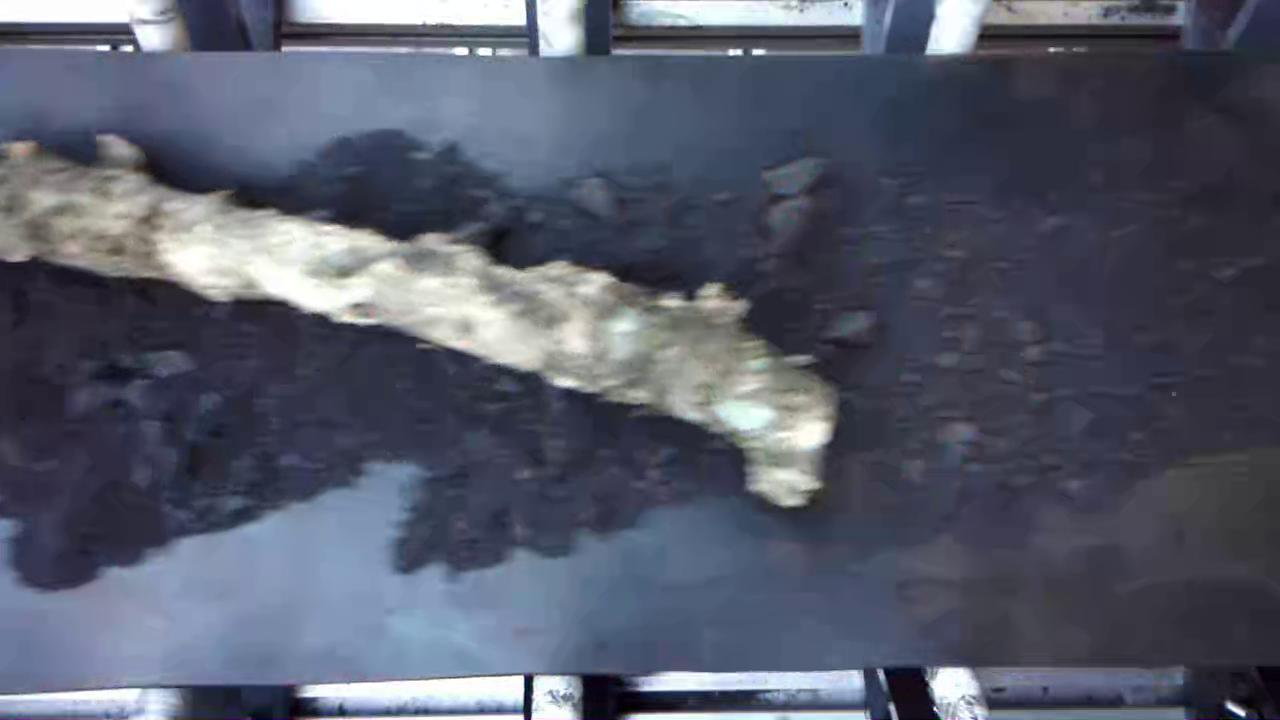conveyor: (9, 66, 1280, 661)
